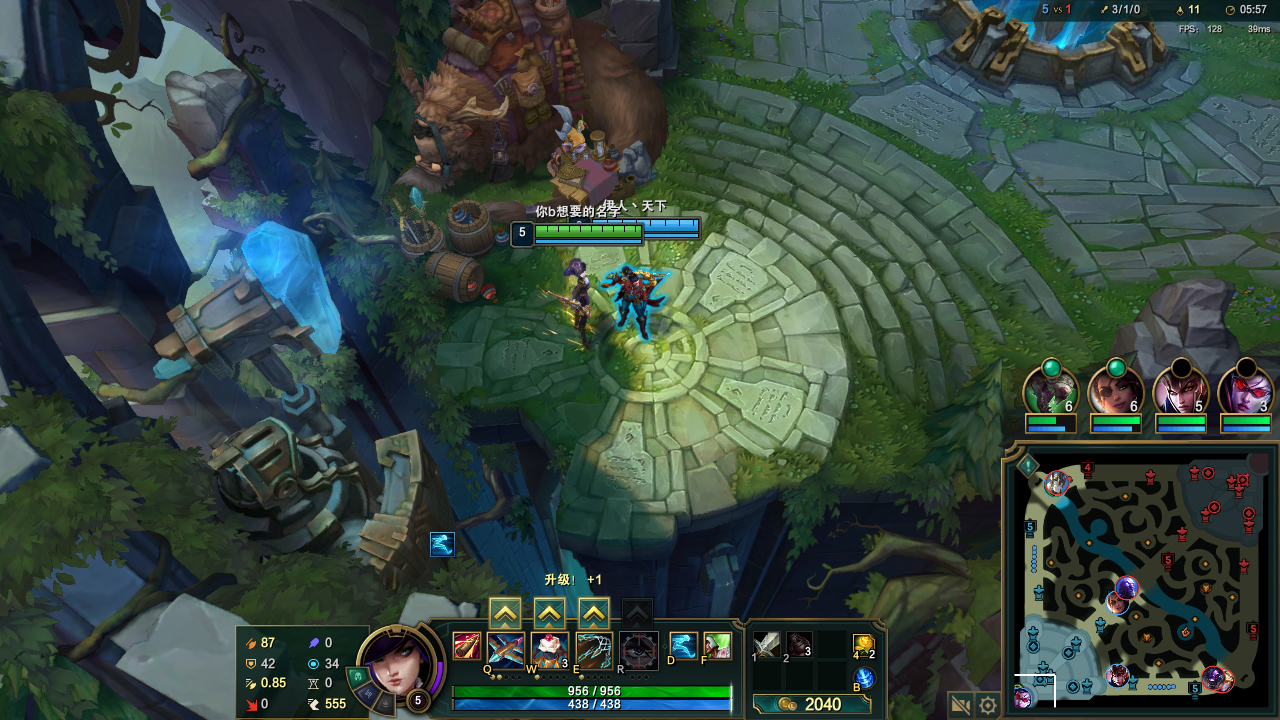Jidi: (409, 40, 643, 122)
Shenji: (584, 604, 608, 628), (493, 604, 520, 624), (536, 599, 560, 620)
WFSJ: (960, 13, 1034, 83)
Yita: (1187, 673, 1202, 698)
